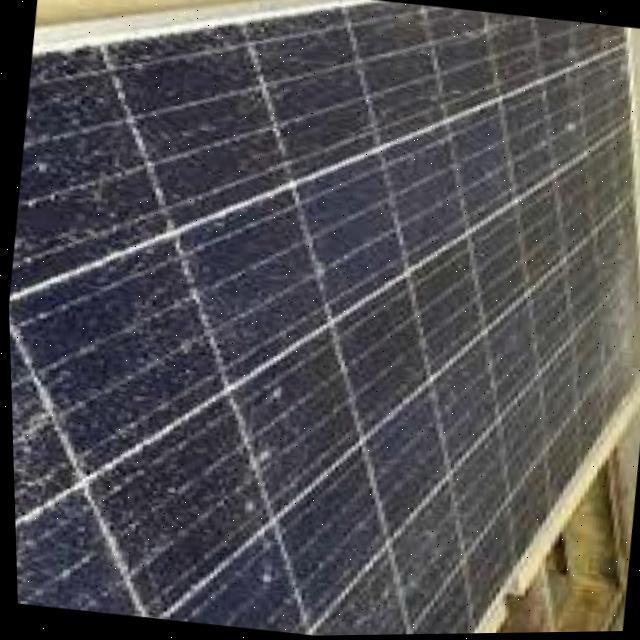Anomaly Solar Panel: (7, 0, 640, 637)
Structural Damage: (10, 430, 65, 607)
